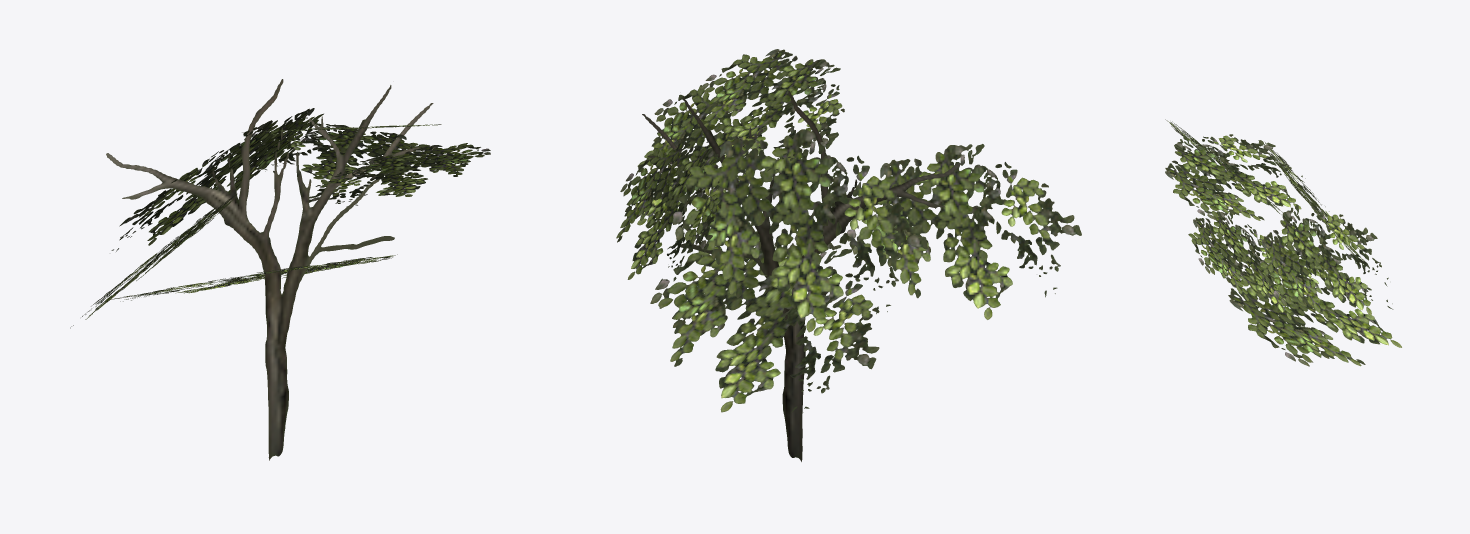
Rendered from tree_k007.FBX.
3 renders of one model, left to right at view 1: azimuth 30°, elevation 25°; view 2: azimuth 150°, elevation 25°; view 3: azimuth 270°, elevation 25°, orthographic. The views are drawn at different scales.
Parts seen in each view (by area): view 1: tree_k007; view 2: tree_k007; view 3: tree_k007.
Boxes of the visible parts, x1,y1,x2,y2 form: tree_k007: (70,79,490,460); tree_k007: (616,49,1081,461); tree_k007: (1165,119,1401,366).
Bounding box in the file's own units: 3.97 × 3 × 2.68.
Materials: 1 (1 with a texture image).
